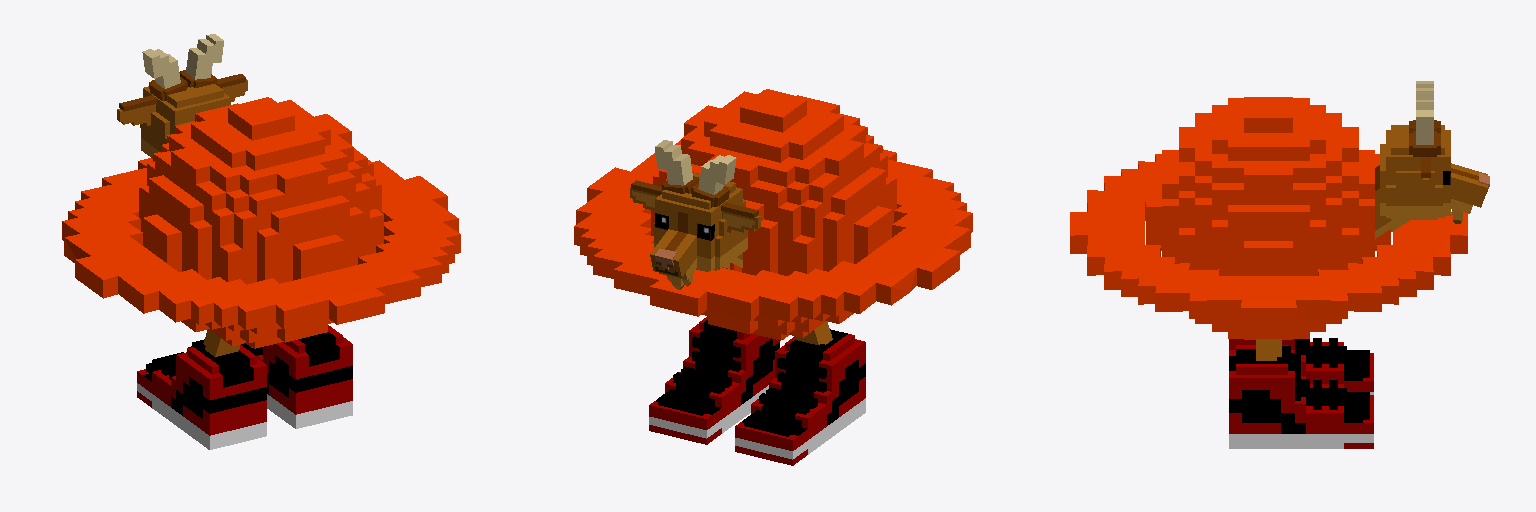
The picture shows the model from 3 angles: view 1: azimuth 30°, elevation 25°; view 2: azimuth 150°, elevation 25°; view 3: azimuth 270°, elevation 25°; orthographic projection.
Visible parts, largest first — view 1: Sphere1, Cube0111, Cube0101, Cube0051, Cube0091, Cube0041, Cube0081; view 2: Sphere1, Cube0101, Cube0111, Cube0051, Cube0091, Cube0041, Cube0081, Cube0121, Cube0031; view 3: Sphere1, Cube0101, Cube0111, Cube0051, Cube0091, Cube0121, Cube0081, Cube0041.
Part boxes in pixels (x1,y1,x2,y2): Sphere1: (62,97,460,348); Cube0111: (137,325,352,435); Cube0101: (143,332,352,418); Cube0051: (117,79,247,356); Cube0091: (137,383,352,449); Cube0041: (142,34,223,88); Cube0081: (119,70,245,111); Sphere1: (574,89,972,340); Cube0101: (656,320,865,436); Cube0111: (649,316,865,465); Cube0051: (630,172,832,344); Cube0091: (649,385,865,459); Cube0041: (655,140,736,194); Cube0081: (631,176,758,250); Cube0121: (632,191,754,289); Cube0031: (654,213,714,275); Sphere1: (1070,97,1467,339); Cube0101: (1229,338,1369,433); Cube0111: (1229,339,1373,448); Cube0051: (1256,125,1487,360); Cube0091: (1229,392,1373,448); Cube0121: (1375,199,1472,238); Cube0081: (1375,120,1478,190); Cube0041: (1416,81,1433,144).
Size of the model in its own units: 10.65 by 9.32 by 11.25.
Materials: 11 (1 with a texture image).